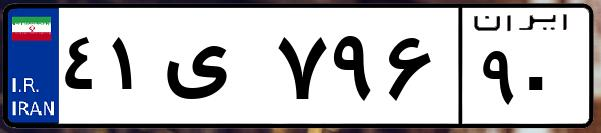0: (525, 38, 570, 115)
1: (110, 28, 158, 98)
4: (57, 26, 110, 100)
6: (385, 28, 445, 110)
7: (270, 28, 330, 110)
9: (330, 28, 385, 110), (475, 38, 525, 113)
ی: (158, 20, 270, 120)
